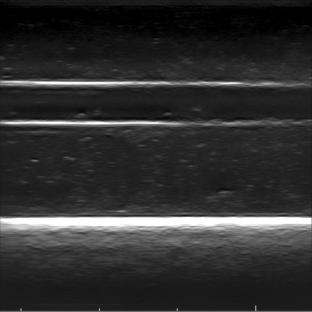vessel: (0, 78, 312, 130)
